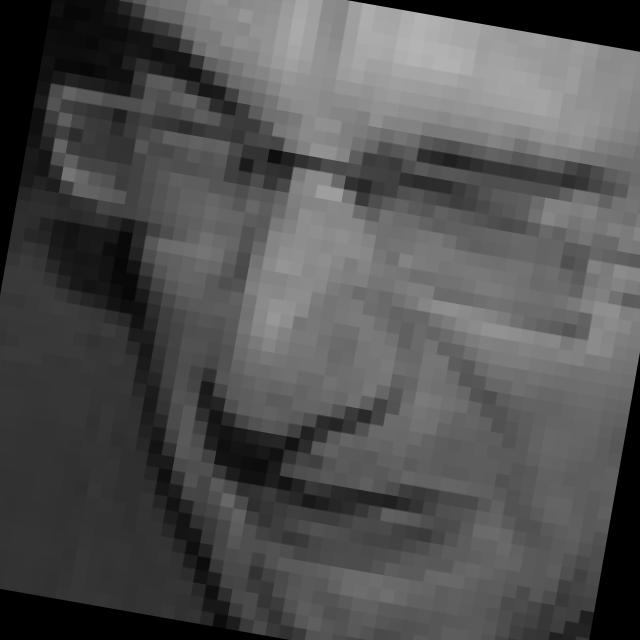disgust: (75, 71, 640, 614)
